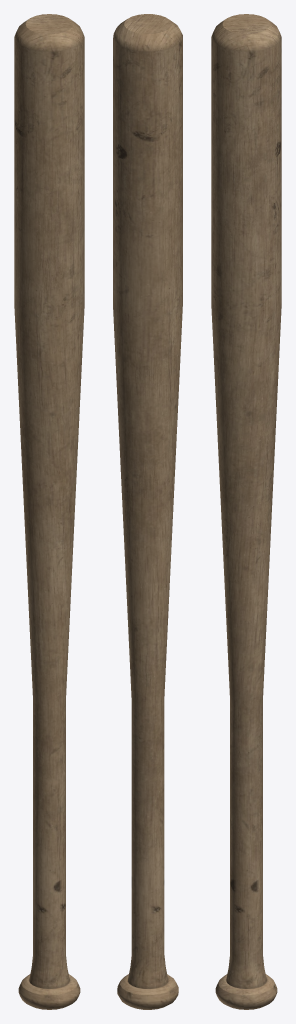
File: bat.glb
3 renders of one model, left to right at view 1: azimuth 90°, elevation 25°; view 2: azimuth 150°, elevation 25°; view 3: azimuth 270°, elevation 25°, orthographic.
Visible parts, largest first — view 1: defaultMaterial; view 2: defaultMaterial; view 3: defaultMaterial.
Boxes of the visible parts, box(x1,y1,x2,y2) form: defaultMaterial: box(14, 14, 84, 1009); defaultMaterial: box(113, 14, 182, 1009); defaultMaterial: box(211, 14, 281, 1009).
Size of the model in its own units: 0.0799 by 1.22 by 0.0799.
Materials: 1 (1 with a texture image).
